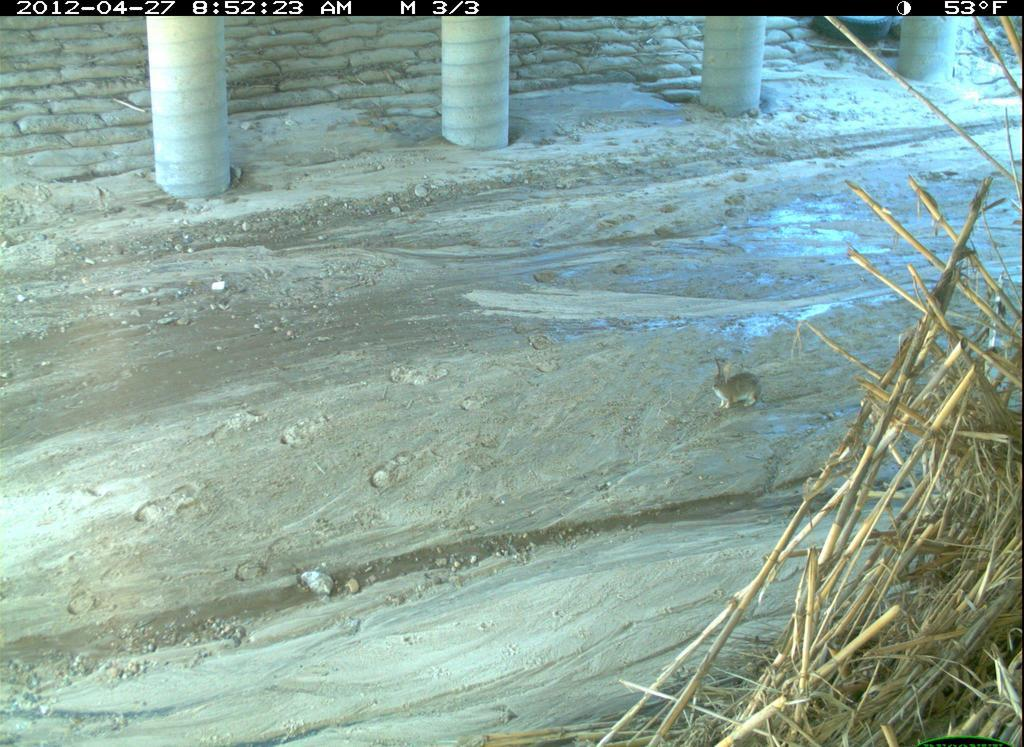rabbit: (705, 344, 776, 427)
